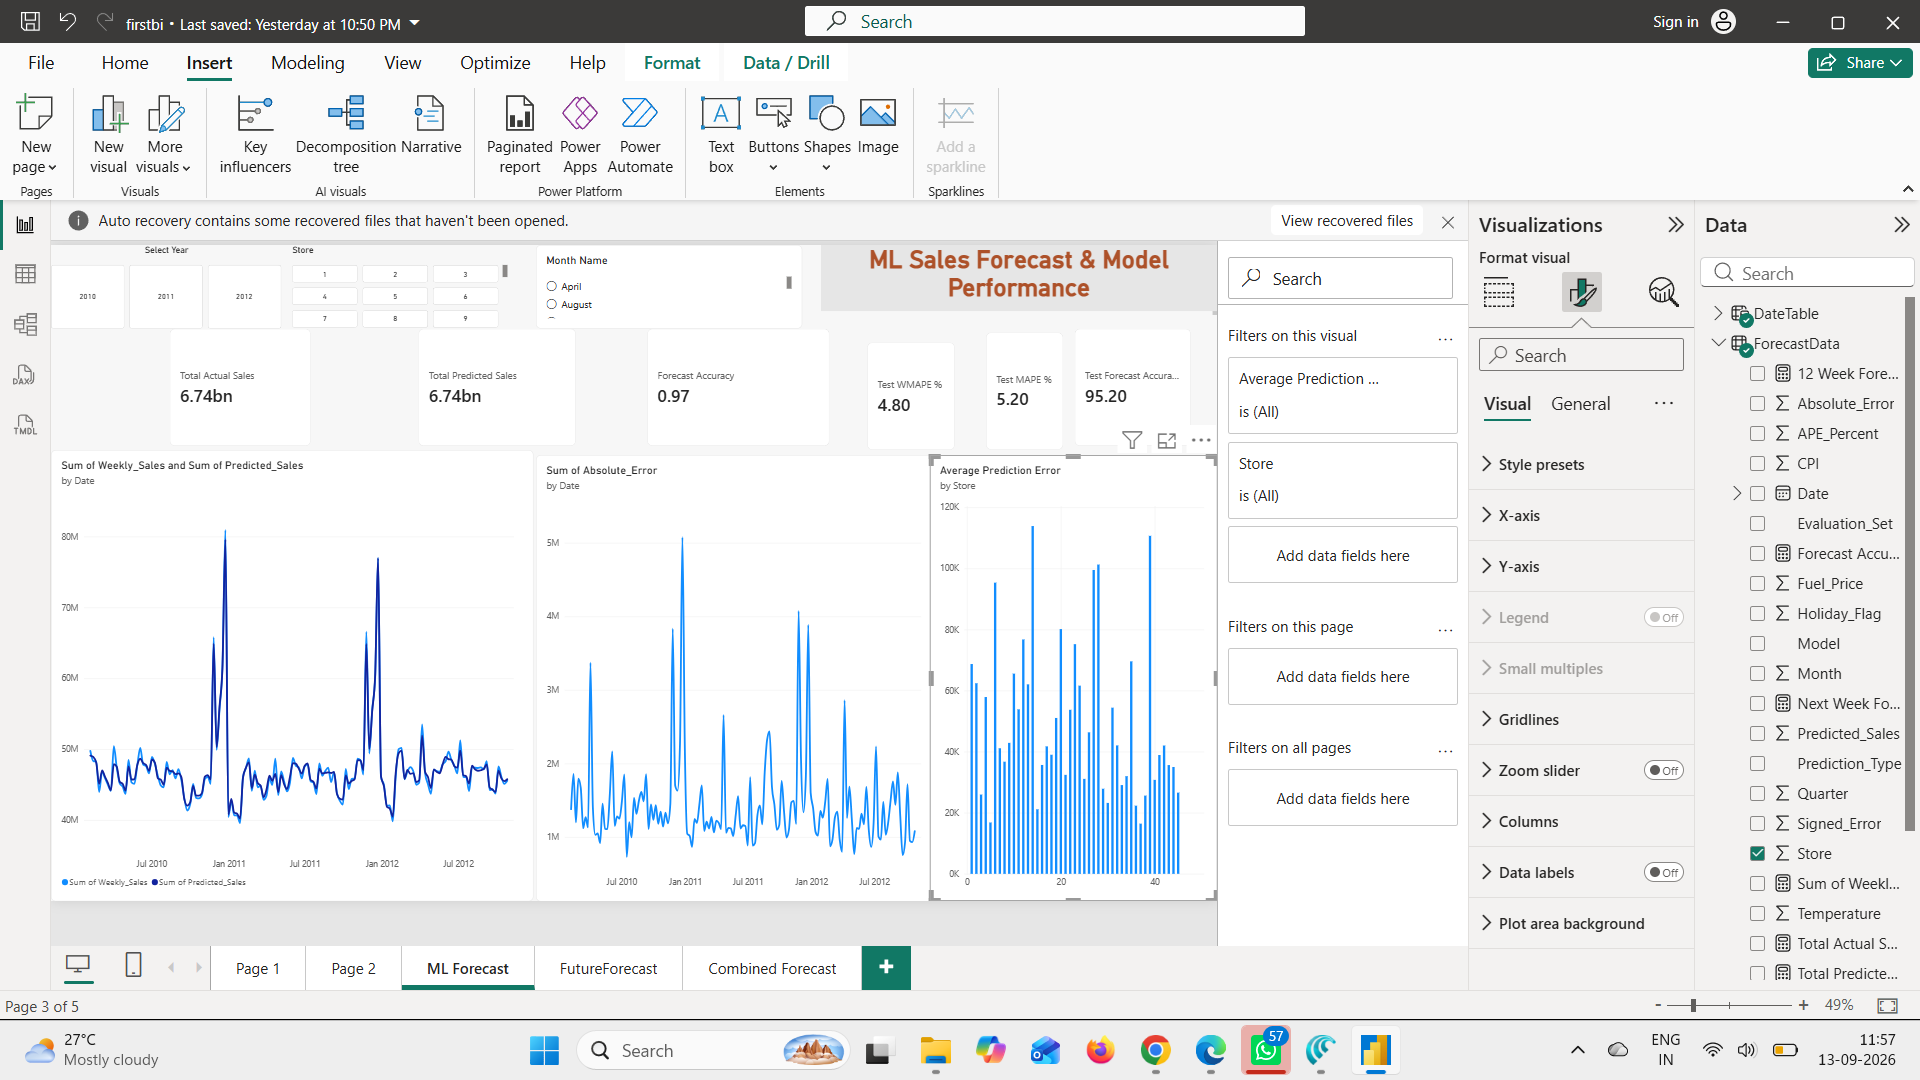

The page's visual inventory and layout, read from the dashboard file:
{"tool":"powerbi","page":{"name":"ML Forecast","canvas":[1920,1080],"ordinal":2},"visuals":[{"type":"lineChart","fields":{"Category":["ForecastData.Date"],"Y":["ForecastData.Sum of Weekly_Sales","Sum(ForecastData.Predicted_Sales)"]},"box":[0,337.6,794.5,743.1],"z":0},{"type":"cardVisual","fields":{"Data":["ForecastData.Total Actual Sales"]},"box":[195.5,137.9,232.6,193.5],"z":1000},{"type":"cardVisual","fields":{"Data":["ForecastData.Total Predicted Sales"]},"box":[605.1,137.9,259.3,193.5],"z":2000},{"type":"cardVisual","fields":{"Data":["ForecastData.Forecast Accuracy"]},"box":[981.8,137.9,300.5,193.5],"z":3000},{"type":"advancedSlicerVisual","title":"Select Year","fields":{"Values":["ForecastData.Year"]},"box":[0,0,380.8,137.9],"z":4000},{"type":"advancedSlicerVisual","fields":{"Values":["ForecastData.Store"]},"box":[397.3,0,354,137.9],"z":5000},{"type":"listSlicer","fields":{"Values":["Walmart.Month Name"]},"box":[798.6,0,438.4,137.9],"z":6000},{"type":"lineChart","fields":{"Category":["Walmart.Date"],"Y":["Sum(ForecastData.Absolute_Error)"]},"box":[798.6,345.8,666.9,734.8],"z":7000},{"type":"cardVisual","fields":{"Data":["DateTable.Test WMAPE %"]},"box":[1344.1,160.5,144.1,177],"z":8000},{"type":"cardVisual","fields":{"Data":["DateTable.Test MAPE %"]},"box":[1539.6,144.1,127.6,193.5],"z":9000},{"type":"cardVisual","fields":{"Data":["DateTable.Test Forecast Accuracy %"]},"box":[1685.8,137.9,191.4,193.5],"z":10000},{"type":"clusteredColumnChart","fields":{"Category":["ForecastData.Store"],"Y":["DateTable.Average Prediction Error"]},"box":[1447,345.8,473.4,734.8],"z":11000},{"type":"textbox","title":"ML Sales Forecast & Model Performance","box":[1267.9,0,652.5,115.3],"z":12000}]}

Visuals, with their boxes on the page's 1920x1080 design canvas (x1, y1, x2, y2). These are canvas units, not pixel positions in the 1920x1080 screenshot, which may show the page scaled, cropped or inside an application window:
lineChart - ForecastData.Date x ForecastData.Sum of Weekly_Sales: 0 338 794 1081
cardVisual - ForecastData.Total Actual Sales: 196 138 428 331
cardVisual - ForecastData.Total Predicted Sales: 605 138 864 331
cardVisual - ForecastData.Forecast Accuracy: 982 138 1282 331
"Select Year" advancedSlicerVisual: 0 0 381 138
advancedSlicerVisual - ForecastData.Store: 397 0 751 138
listSlicer - Walmart.Month Name: 799 0 1237 138
lineChart - Walmart.Date x Sum(ForecastData.Absolute_Error): 799 346 1466 1081
cardVisual - DateTable.Test WMAPE %: 1344 160 1488 338
cardVisual - DateTable.Test MAPE %: 1540 144 1667 338
cardVisual - DateTable.Test Forecast Accuracy %: 1686 138 1877 331
clusteredColumnChart - ForecastData.Store x DateTable.Average Prediction Error: 1447 346 1920 1081
"ML Sales Forecast & Model Performance" textbox: 1268 0 1920 115
